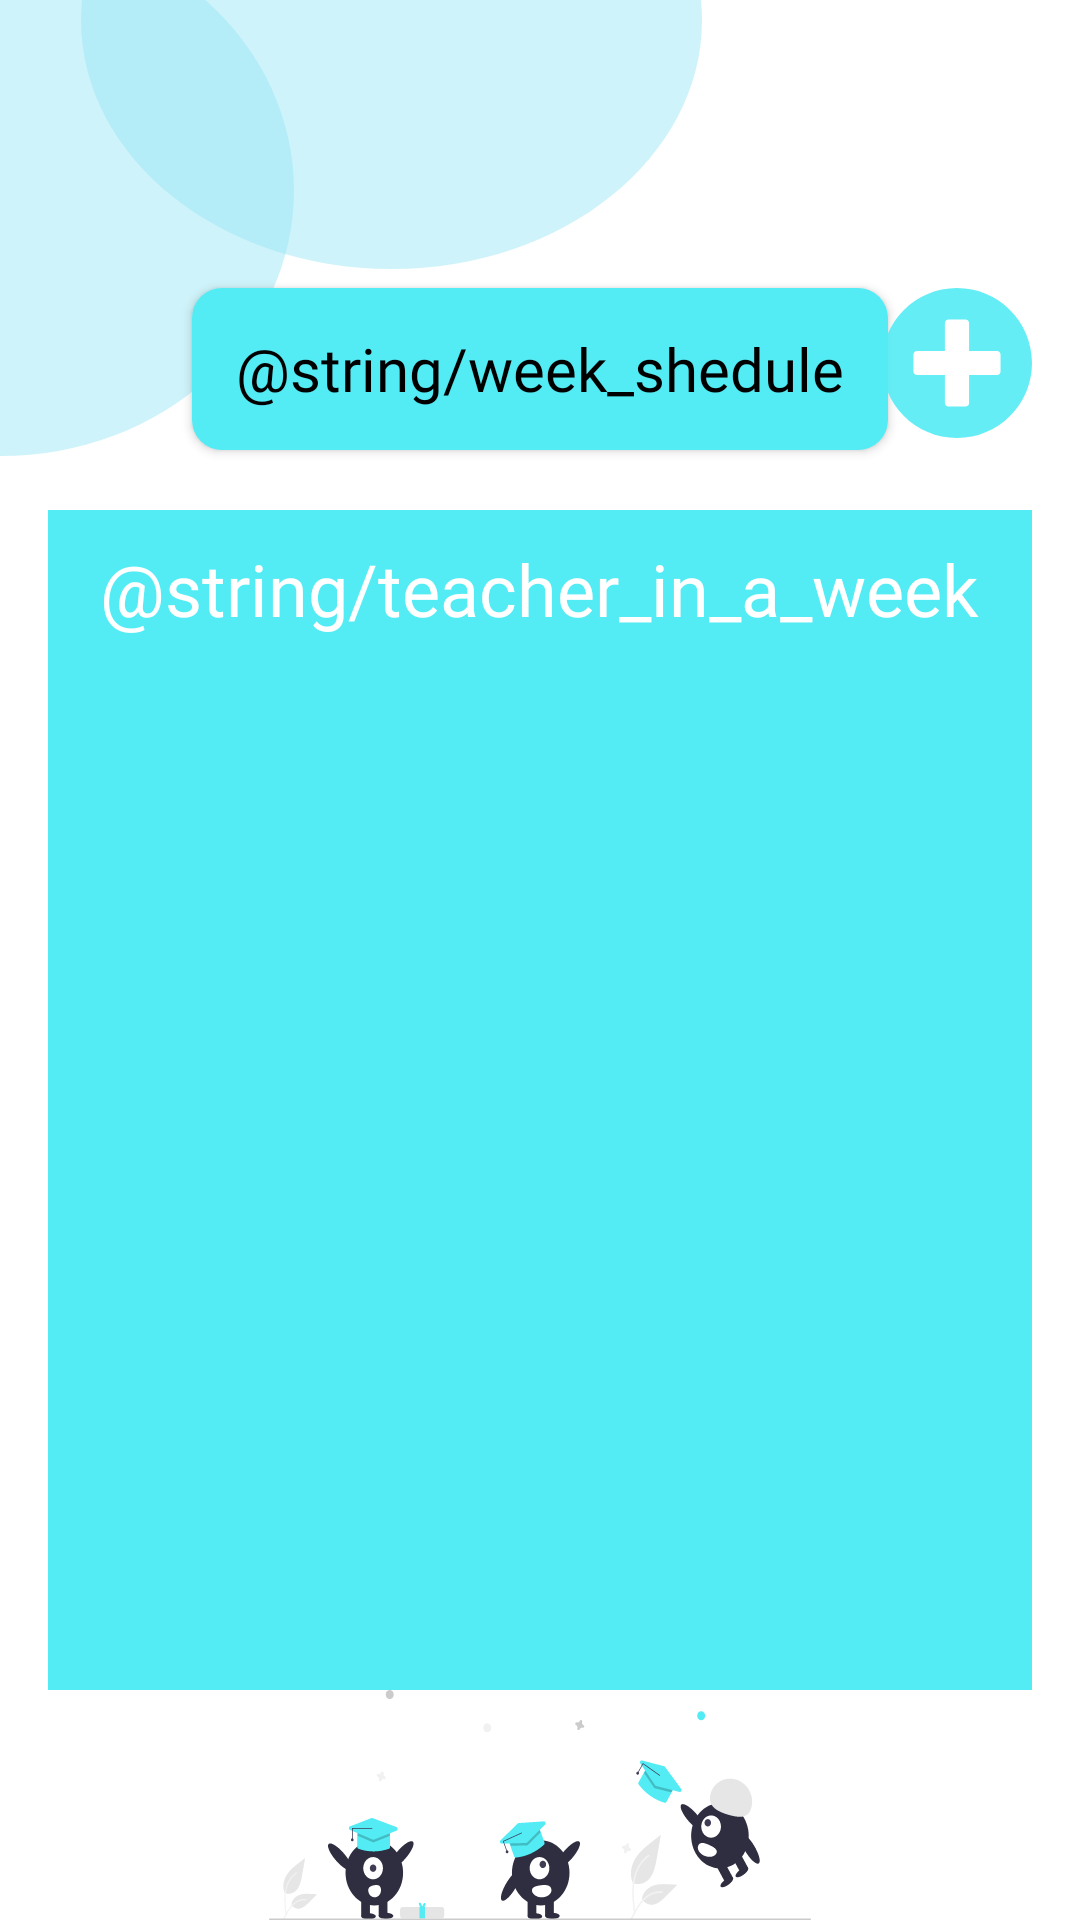

Where icons sit on this 1080 x 1920 app screen, as {"x1": x1, "y1": y1, "x2": x2, "y2": y2}:
add botton: {"x1": 882, "y1": 288, "x2": 1032, "y2": 438}
